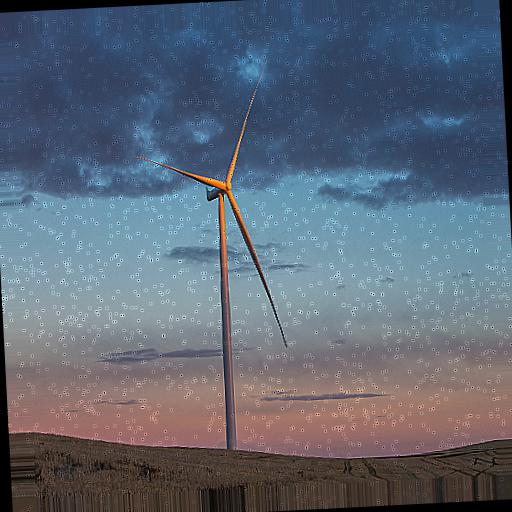wind turbine: (138, 66, 286, 448)
